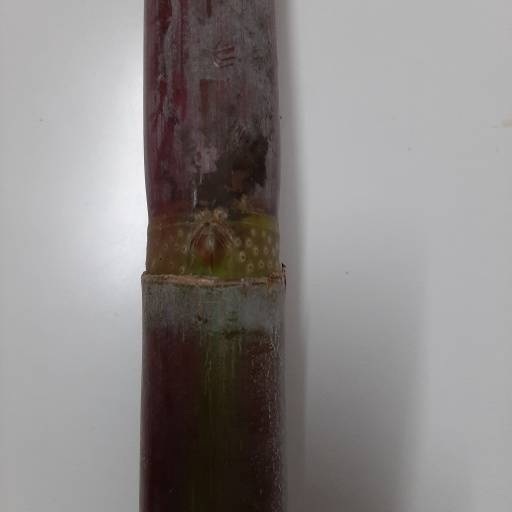Bud: (190, 224, 229, 273)
